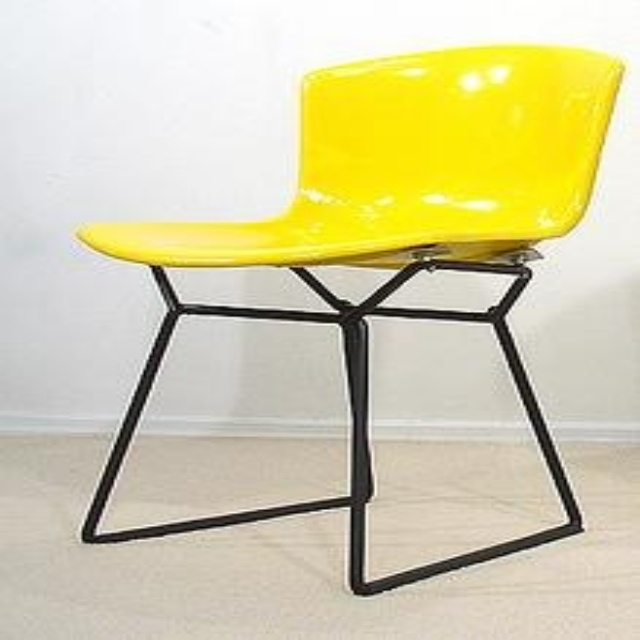obstacle: (79, 45, 622, 593)
